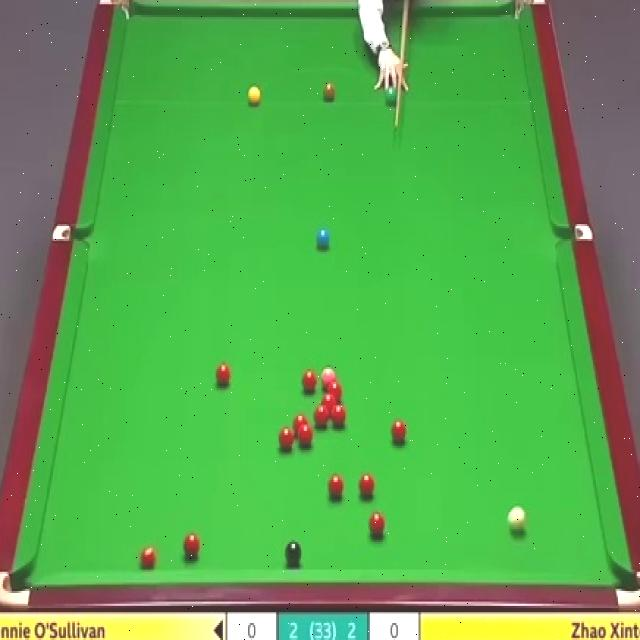black-ball: (285, 538, 302, 567)
blue-ball: (314, 227, 330, 252)
brown-ball: (322, 84, 335, 102)
green-ball: (385, 86, 397, 106)
pink-ball: (321, 367, 337, 385)
red-ball: (183, 533, 202, 560), (368, 512, 386, 540), (139, 544, 156, 572), (302, 368, 318, 396), (358, 474, 375, 498), (391, 421, 408, 444), (328, 475, 345, 498), (298, 424, 314, 447), (279, 427, 294, 450), (312, 406, 330, 425), (216, 362, 230, 386), (292, 412, 308, 431), (319, 393, 338, 408), (332, 405, 346, 424), (326, 382, 345, 395)
white-ball: (508, 506, 525, 534)
yellow-ball: (247, 84, 262, 107)
